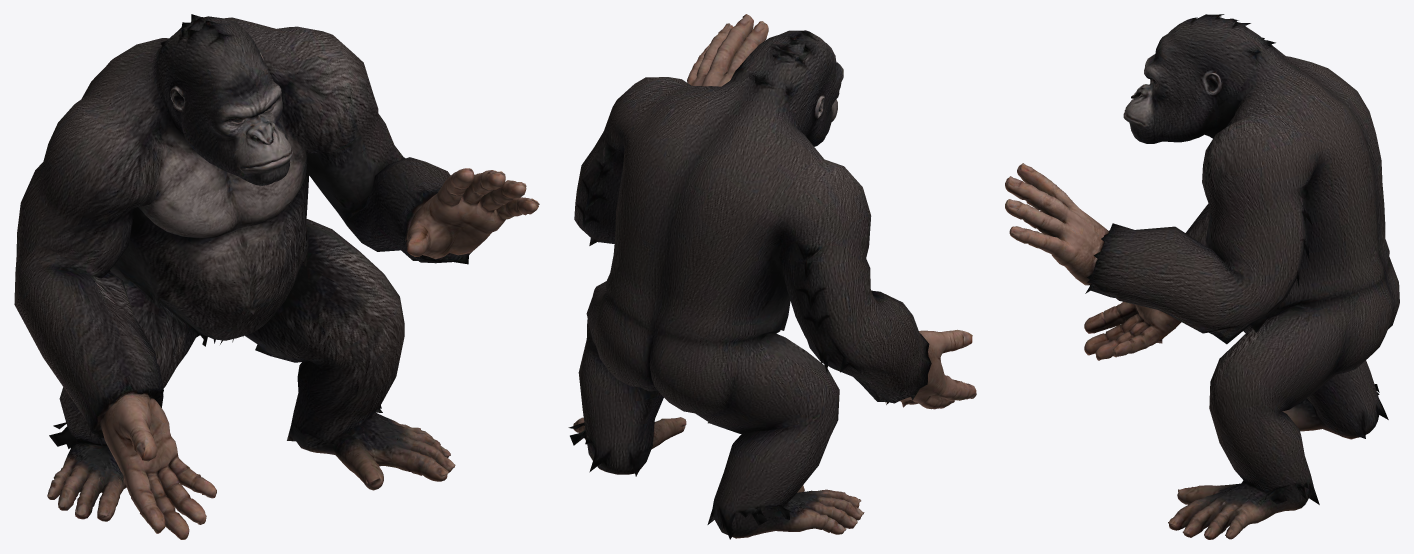
Rendered from gorila-lowpoly.glb.
3 renders of one model, left to right at view 1: azimuth 30°, elevation 25°; view 2: azimuth 150°, elevation 25°; view 3: azimuth 270°, elevation 25°, orthographic. The views are drawn at different scales.
Parts seen in each view (by area): view 1: Object_4; view 2: Object_4; view 3: Object_4.
Boxes of the visible parts, x1=… form: Object_4: x1=14, y1=14, x2=539, y2=539; Object_4: x1=568, y1=14, x2=976, y2=539; Object_4: x1=1005, y1=14, x2=1399, y2=539.
Bounding box in the file's own units: 0.8199 × 1 × 0.8395.
Materials: 1 (1 with a texture image).
